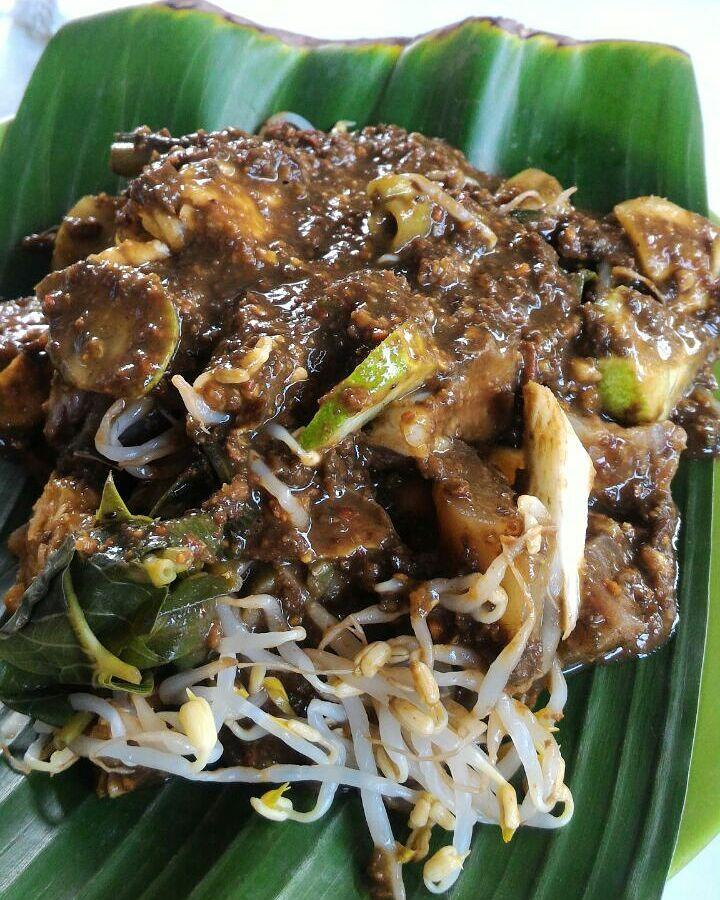rujak_cingur: (1, 130, 720, 900)
